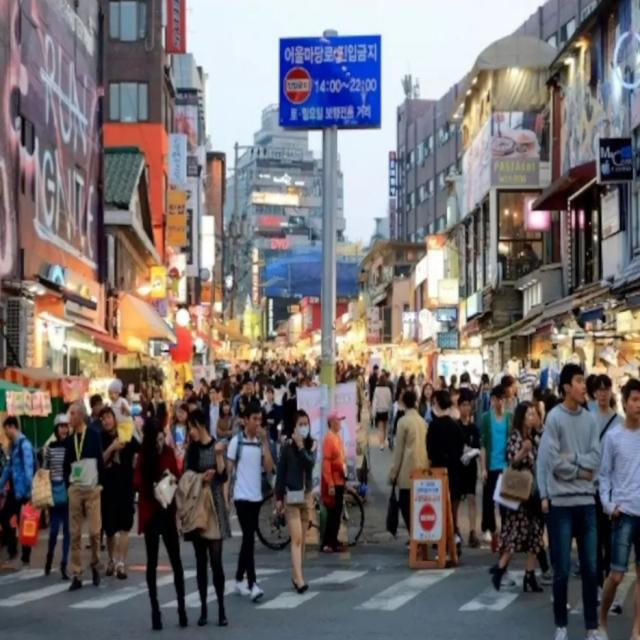body: (536, 353, 604, 639), (132, 420, 190, 633), (178, 409, 232, 627), (594, 379, 639, 639), (486, 402, 546, 594), (221, 397, 276, 602), (273, 404, 320, 599), (588, 374, 626, 614), (61, 400, 108, 594), (93, 404, 141, 580), (422, 389, 466, 562), (385, 391, 430, 551), (234, 341, 359, 396), (121, 364, 234, 420), (478, 383, 514, 553), (0, 411, 38, 572), (42, 413, 74, 582), (450, 393, 482, 549), (528, 401, 554, 580), (319, 409, 349, 553), (359, 352, 433, 408), (164, 402, 190, 477), (371, 370, 392, 452), (260, 386, 279, 468), (216, 398, 234, 476), (434, 363, 489, 388), (502, 240, 542, 272), (356, 408, 370, 499), (201, 384, 223, 441), (280, 379, 300, 441), (101, 378, 131, 418), (235, 378, 261, 420), (146, 386, 168, 432), (390, 384, 406, 444), (231, 393, 250, 439), (366, 362, 381, 405), (531, 380, 559, 401), (89, 393, 104, 423), (505, 369, 518, 395), (586, 372, 595, 396), (449, 391, 458, 413), (612, 386, 620, 409)
